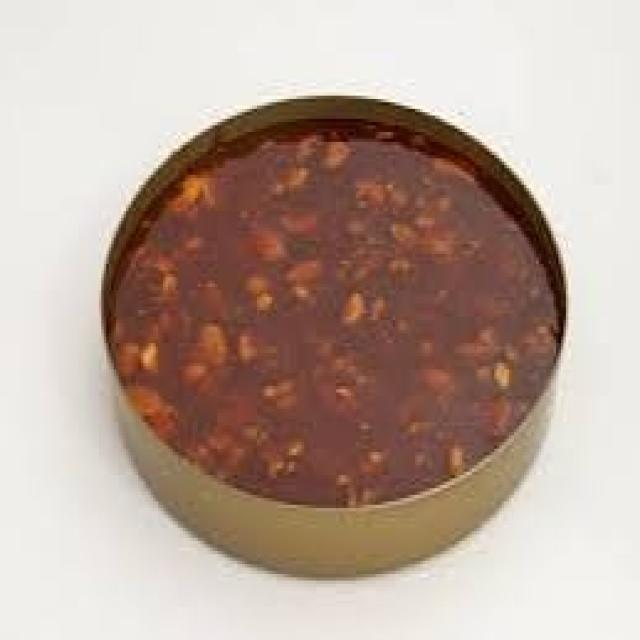Halwa: (108, 103, 570, 509), (106, 106, 568, 508), (106, 106, 562, 505)
